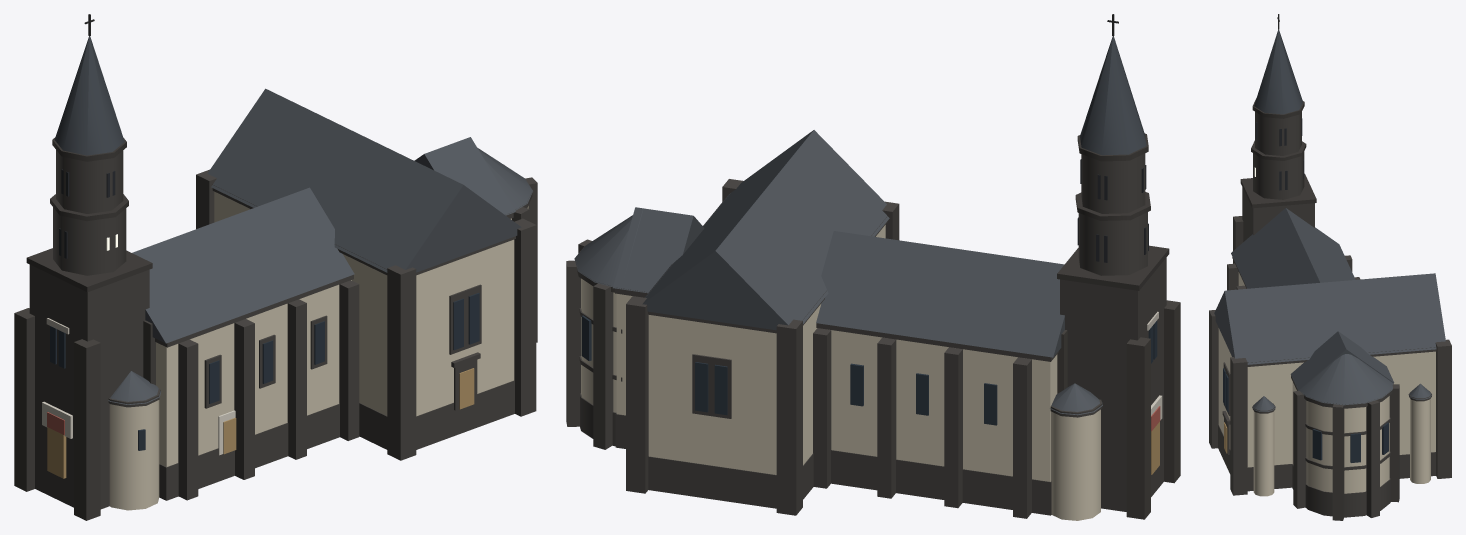
The model's file is nouveau-lieu.glb.
The picture shows the model from 3 angles, left to right: view 1: azimuth 30°, elevation 25°; view 2: azimuth 150°, elevation 25°; view 3: azimuth 270°, elevation 25°; orthographic projection. The views are drawn at different scales.
Visible parts, largest first — view 1: Église d'Olby; view 2: Église d'Olby; view 3: Église d'Olby.
Boxes of the visible parts, x1,y1,x2,y2 form: Église d'Olby: (14, 14, 537, 520); Église d'Olby: (566, 14, 1180, 520); Église d'Olby: (1209, 14, 1451, 520).
Size of the model in its own units: 42.62 by 35.7 by 23.29.
